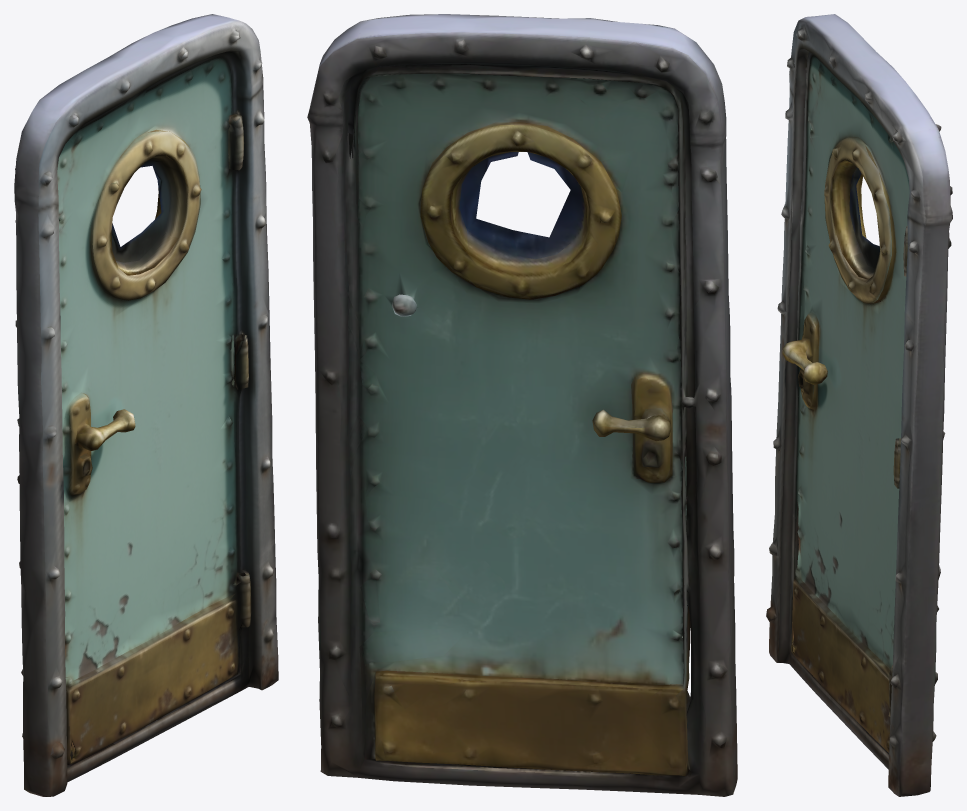
File: door.fbx
The picture shows the model from 3 angles, left to right: view 1: azimuth 30°, elevation 25°; view 2: azimuth 150°, elevation 25°; view 3: azimuth 270°, elevation 25°; orthographic projection. The views are drawn at different scales.
Parts seen in each view (by area): view 1: Mesh_0.001; view 2: Mesh_0.001; view 3: Mesh_0.001.
Boxes of the visible parts, x1,y1,x2,y2 form: Mesh_0.001: [14, 14, 278, 796]; Mesh_0.001: [307, 14, 737, 796]; Mesh_0.001: [766, 14, 952, 796].
Bounding box in the file's own units: 0.4153 × 0.8796 × 0.2248.
1 material, 1 textured.
